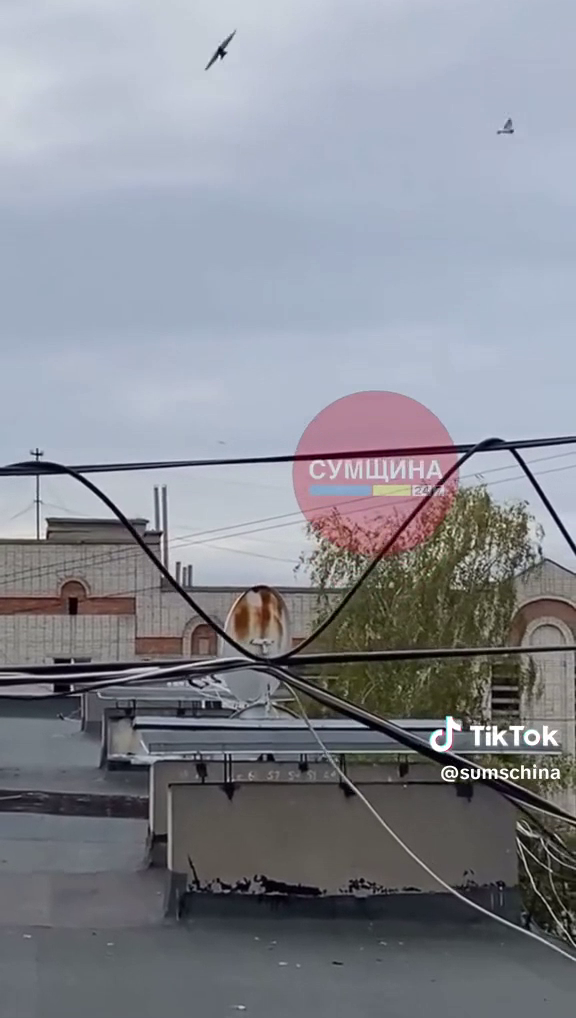not_drone: (202, 24, 242, 74)
